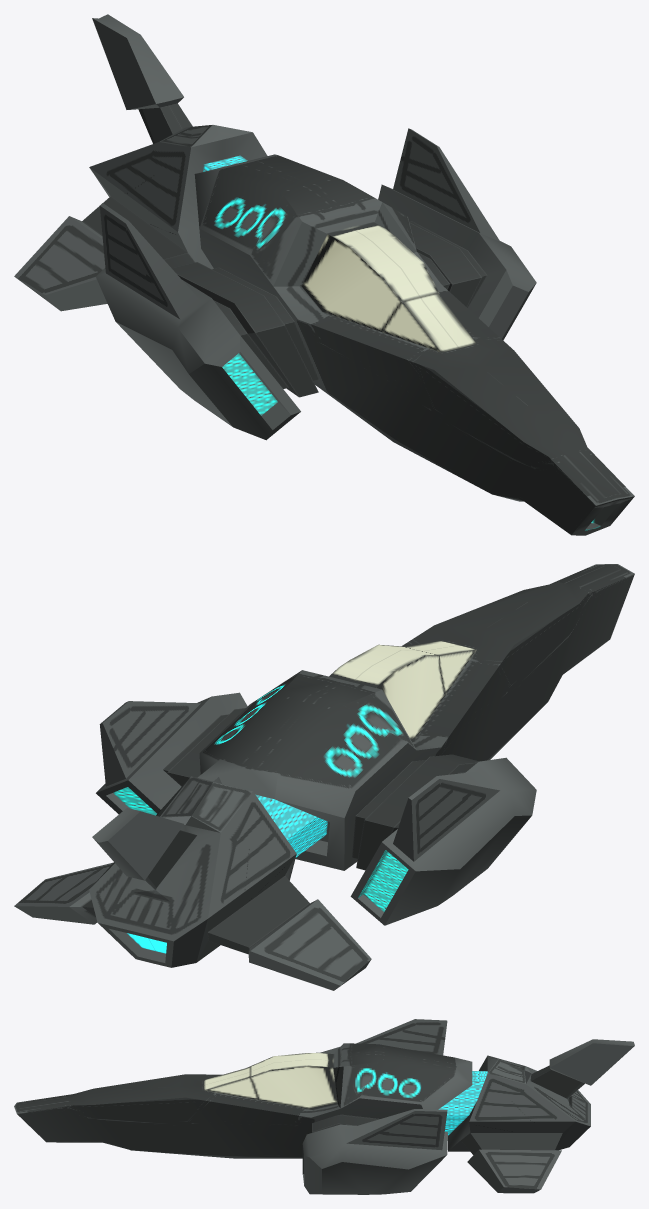
Rendered from flyer.fbx.
3 views of the same model, one above another, from view 1: azimuth 30°, elevation 25°; view 2: azimuth 150°, elevation 25°; view 3: azimuth 270°, elevation 25° (orthographic). The views are drawn at different scales.
Visible parts, largest first — view 1: Cube; view 2: Cube; view 3: Cube.
Boxes of the visible parts, <box> form: Cube: <box>14,14,634,535</box>; Cube: <box>14,564,634,990</box>; Cube: <box>14,1019,634,1194</box>.
Size of the model in its own units: 418 by 237 by 1089.
Materials: 1 (1 with a texture image).
